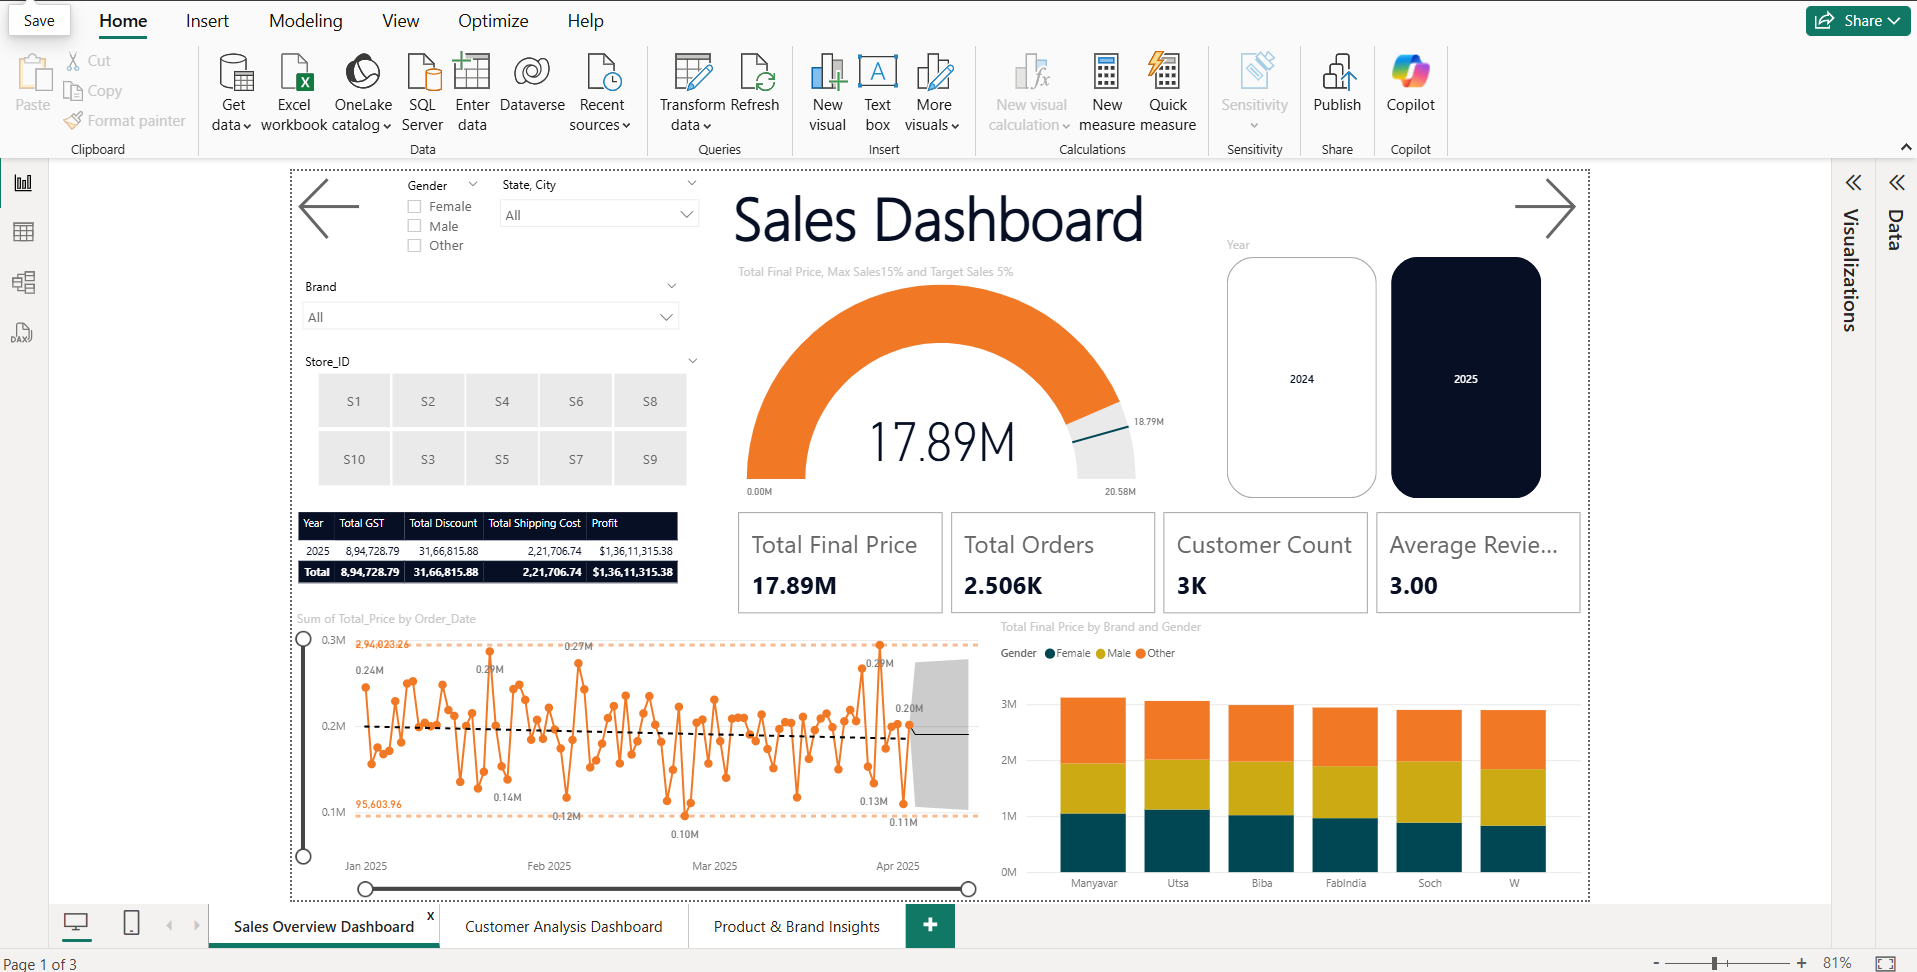

Layout of this report page (visuals, bound fields, positions):
{"tool":"powerbi","page":{"name":"Sales Overview Dashboard","canvas":[1280,720],"ordinal":0},"visuals":[{"type":"slicer","fields":{"Values":["Customer.Gender"]},"box":[101.2,1.2,95,100],"z":0},{"type":"tableEx","fields":{"Values":["DateTable.Year","Order.Total GST","Order.Total Discount","Order.Total Shipping Cost","Order.Profit"]},"box":[0,332.5,435.2,108.8],"z":1000},{"type":"textbox","box":[411.1,0,455.8,91.9],"z":2000},{"type":"lineChart","fields":{"Y":["Sum(Order.Total_Price)"],"Category":["Order.Order_Date"]},"box":[0,433.5,695.5,286.9],"z":3000},{"type":"actionButton","box":[1199.8,0,80.7,74.5],"z":4000},{"type":"gauge","fields":{"Y":["Order.Total Final Price"],"MaxValue":["Customer.Target Sales15%"],"TargetValue":["Customer.Target Sales 5%"]},"box":[435.3,91.7,443.9,238.5],"z":5000},{"type":"slicer","fields":{"Values":["Store.Store_ID"]},"box":[0,174.9,413.3,141.8],"z":6000},{"type":"slicer","fields":{"Values":["Customer.State Hierarchy.State","Customer.State Hierarchy.City"]},"box":[195.6,0,217.6,63.6],"z":7000},{"type":"advancedSlicerVisual","fields":{"Values":["DateTable.Year"]},"box":[918.3,63.6,321.6,264.1],"z":8000},{"type":"actionButton","box":[0,0,88.2,74.5],"z":9000},{"type":"columnChart","fields":{"Y":["Order.Total Final Price"],"Series":["Customer.Gender"],"Category":["Product.Brand"]},"box":[695.5,442.2,583.7,278.2],"z":10000},{"type":"cardVisual","fields":{"Data":["Order.Total Final Price","Order.Total Orders","Order.Customer Count","Order.Average Review Rating"]},"box":[435.3,332.6,845,110.1],"z":11000},{"type":"slicer","fields":{"Values":["Product.Brand"]},"box":[0,101.5,392.5,58.7],"z":13000}]}

Visuals, with their boxes on the page's 1280x720 design canvas (x1, y1, x2, y2). These are canvas units, not pixel positions in the 1917x972 screenshot, which may show the page scaled, cropped or inside an application window:
slicer - Customer.Gender: l=101, t=1, r=196, b=101
tableEx - DateTable.Year x Order.Total GST: l=0, t=332, r=435, b=441
textbox: l=411, t=0, r=867, b=92
lineChart - Sum(Order.Total_Price) x Order.Order_Date: l=0, t=434, r=696, b=720
actionButton: l=1200, t=0, r=1280, b=74
gauge - Order.Total Final Price x Customer.Target Sales15%: l=435, t=92, r=879, b=330
slicer - Store.Store_ID: l=0, t=175, r=413, b=317
slicer - Customer.State Hierarchy.State x Customer.State Hierarchy.City: l=196, t=0, r=413, b=64
advancedSlicerVisual - DateTable.Year: l=918, t=64, r=1240, b=328
actionButton: l=0, t=0, r=88, b=74
columnChart - Order.Total Final Price x Customer.Gender: l=696, t=442, r=1279, b=720
cardVisual - Order.Total Final Price x Order.Total Orders: l=435, t=333, r=1280, b=443
slicer - Product.Brand: l=0, t=102, r=392, b=160
